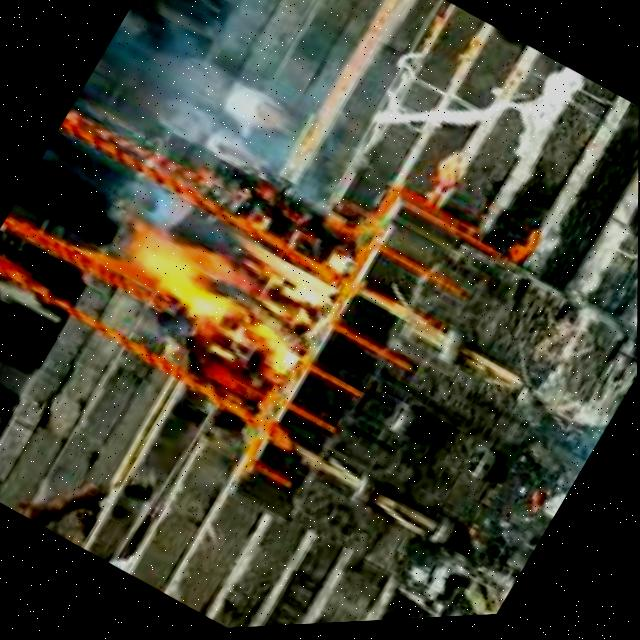Fire: (100, 155, 362, 397)
